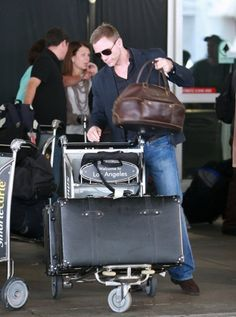EngTrolley: (49, 135, 184, 305)
